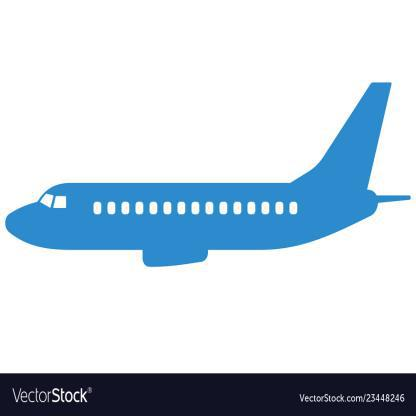CIV_Plane: (1, 77, 412, 266)
